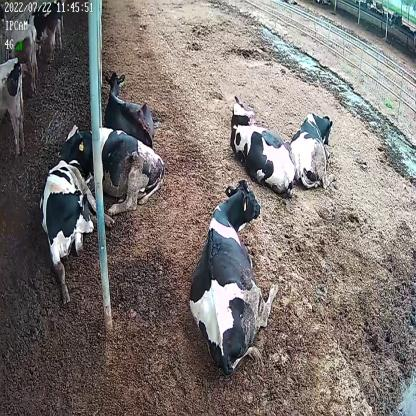cow: (186, 178, 278, 379), (39, 158, 115, 306), (58, 121, 164, 227), (231, 93, 296, 200), (102, 68, 159, 149), (288, 114, 336, 191)
